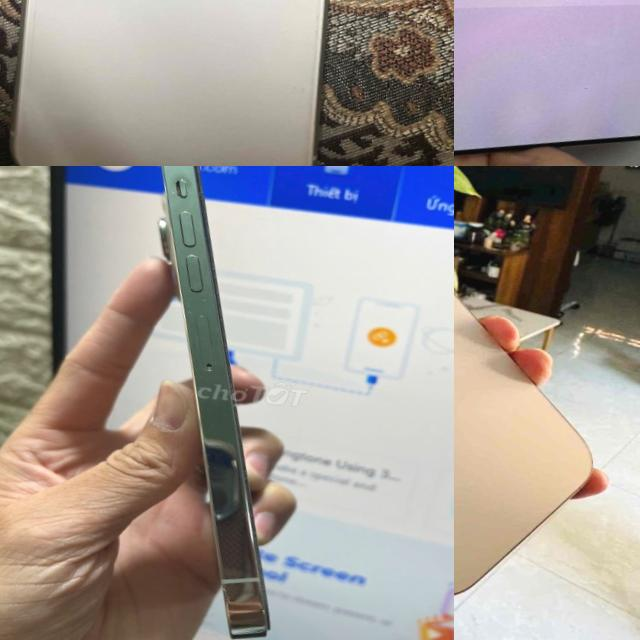gen_11: (0, 0, 360, 166)
gen_15: (91, 166, 329, 640), (454, 0, 640, 166)
gen_16: (454, 295, 590, 592)
